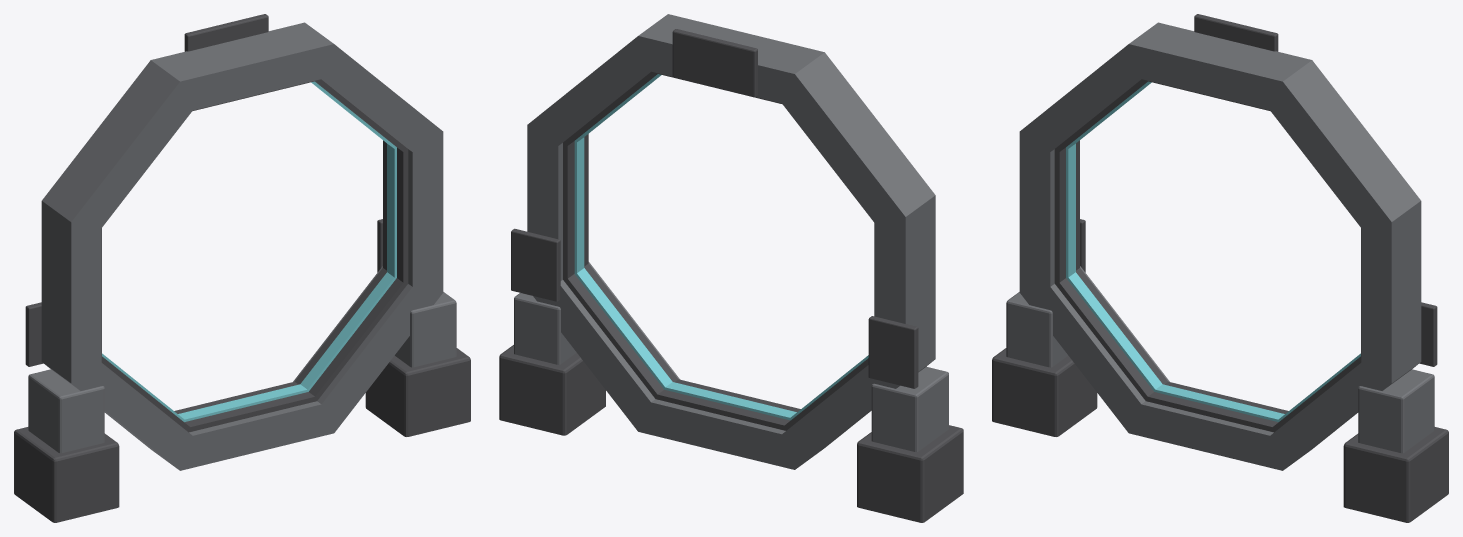
File: rn2-fabrica-portal.glb
3 renders of one model, left to right at view 1: azimuth 30°, elevation 25°; view 2: azimuth 150°, elevation 25°; view 3: azimuth 330°, elevation 25°, orthographic.
Visible parts, largest first — view 1: rn2_fabrica_portal_body, rn2_fabrica_portal_glow; view 2: rn2_fabrica_portal_body, rn2_fabrica_portal_glow; view 3: rn2_fabrica_portal_body, rn2_fabrica_portal_glow.
Boxes of the visible parts, box(x1,y1,x2,y2) form: rn2_fabrica_portal_body: box(14, 14, 470, 522); rn2_fabrica_portal_glow: box(102, 81, 396, 422); rn2_fabrica_portal_body: box(499, 14, 963, 522); rn2_fabrica_portal_glow: box(574, 74, 868, 420); rn2_fabrica_portal_body: box(992, 14, 1448, 522); rn2_fabrica_portal_glow: box(1066, 81, 1360, 422).
Size of the model in its own units: 16.4 by 15.8 by 2.8.
